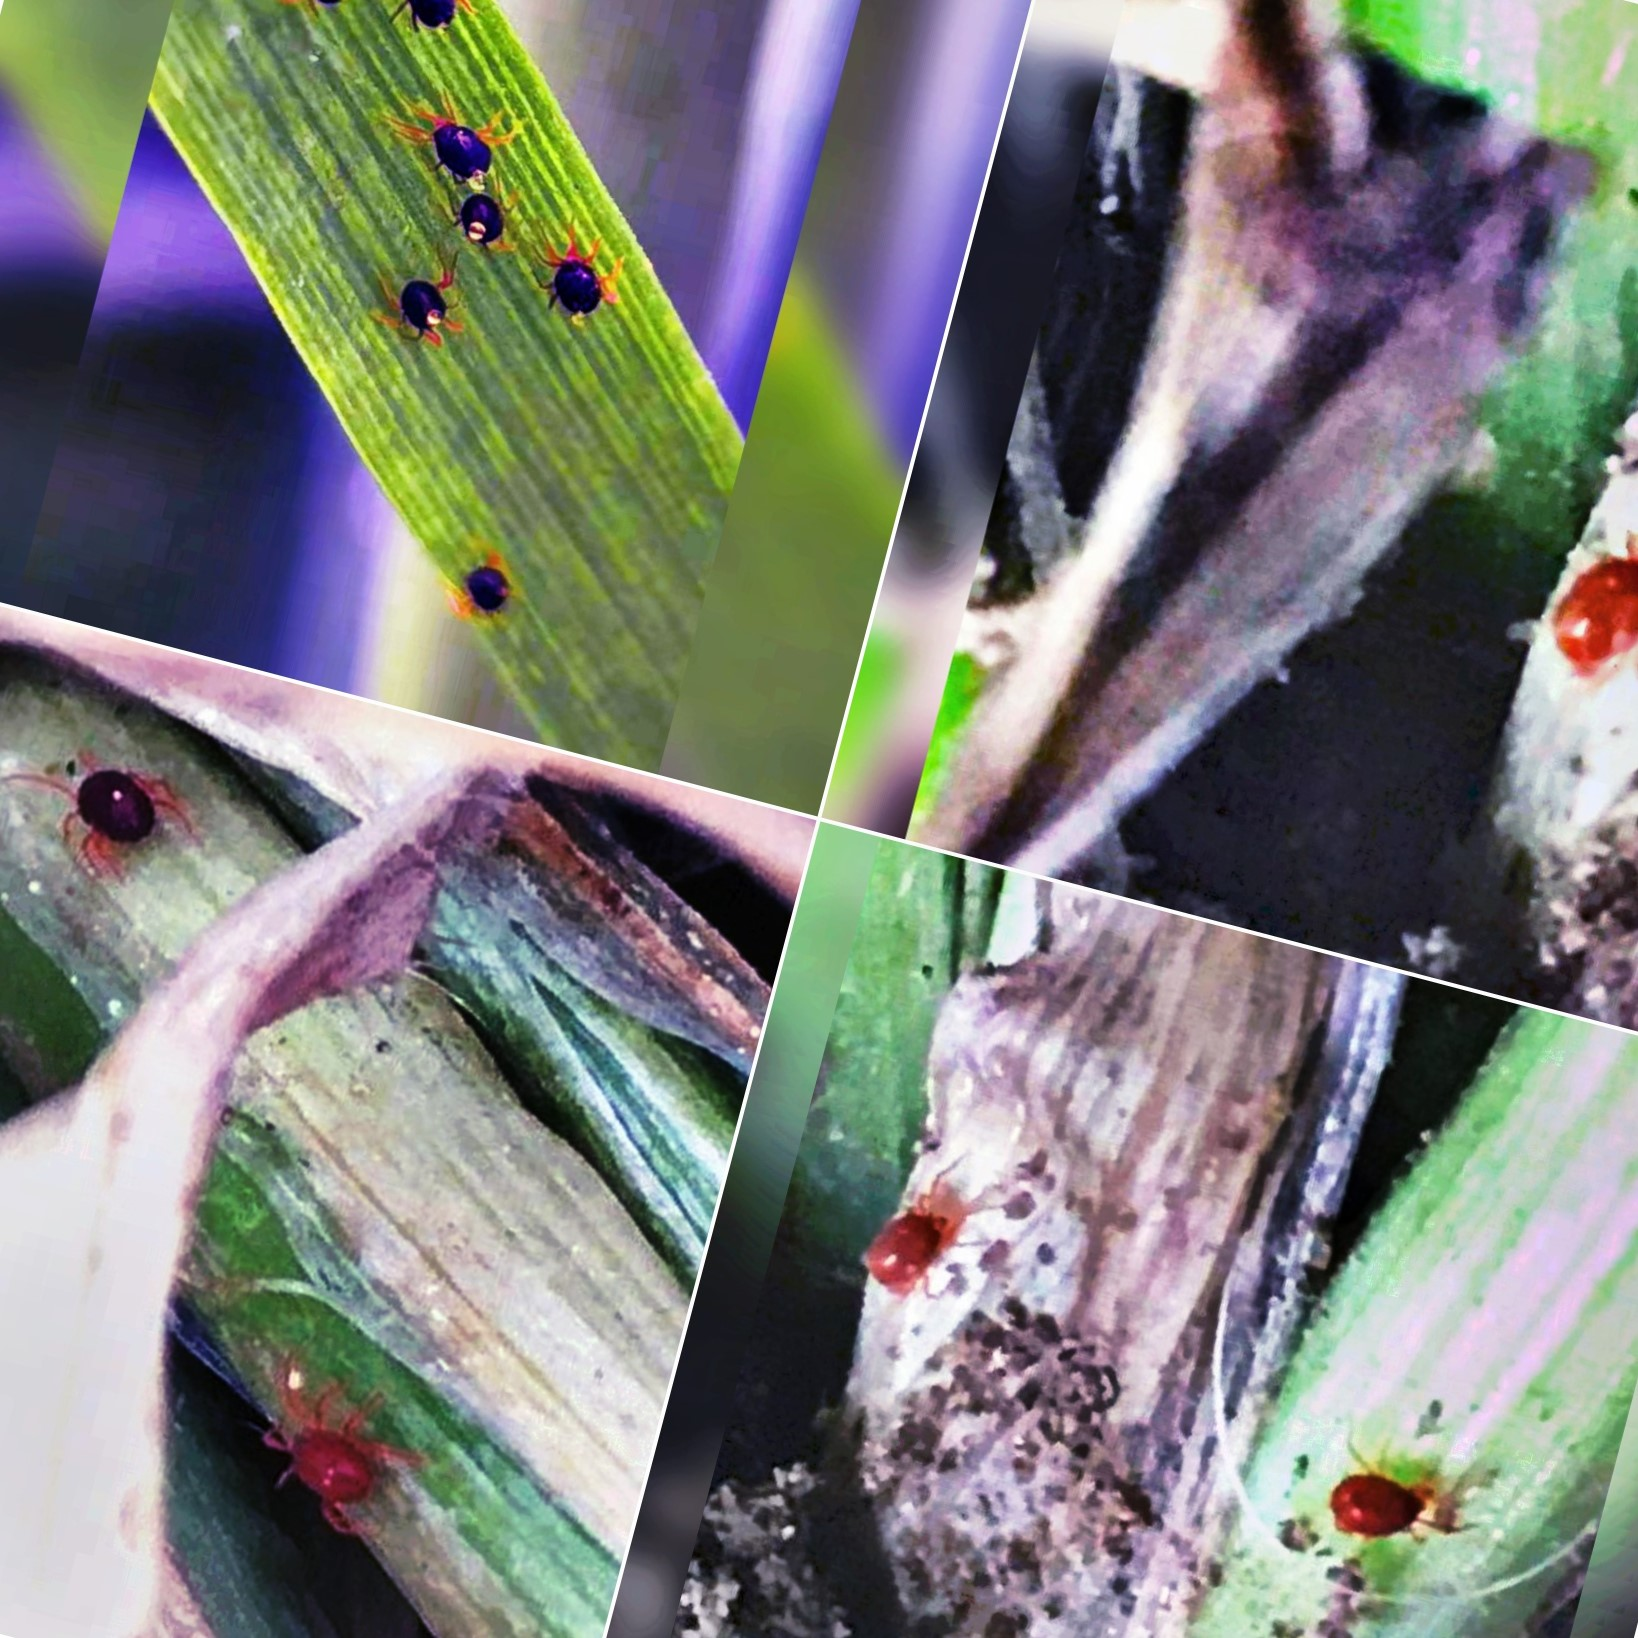Wheat Red Spider: (328, 91, 633, 370), (232, 1357, 439, 1555)
